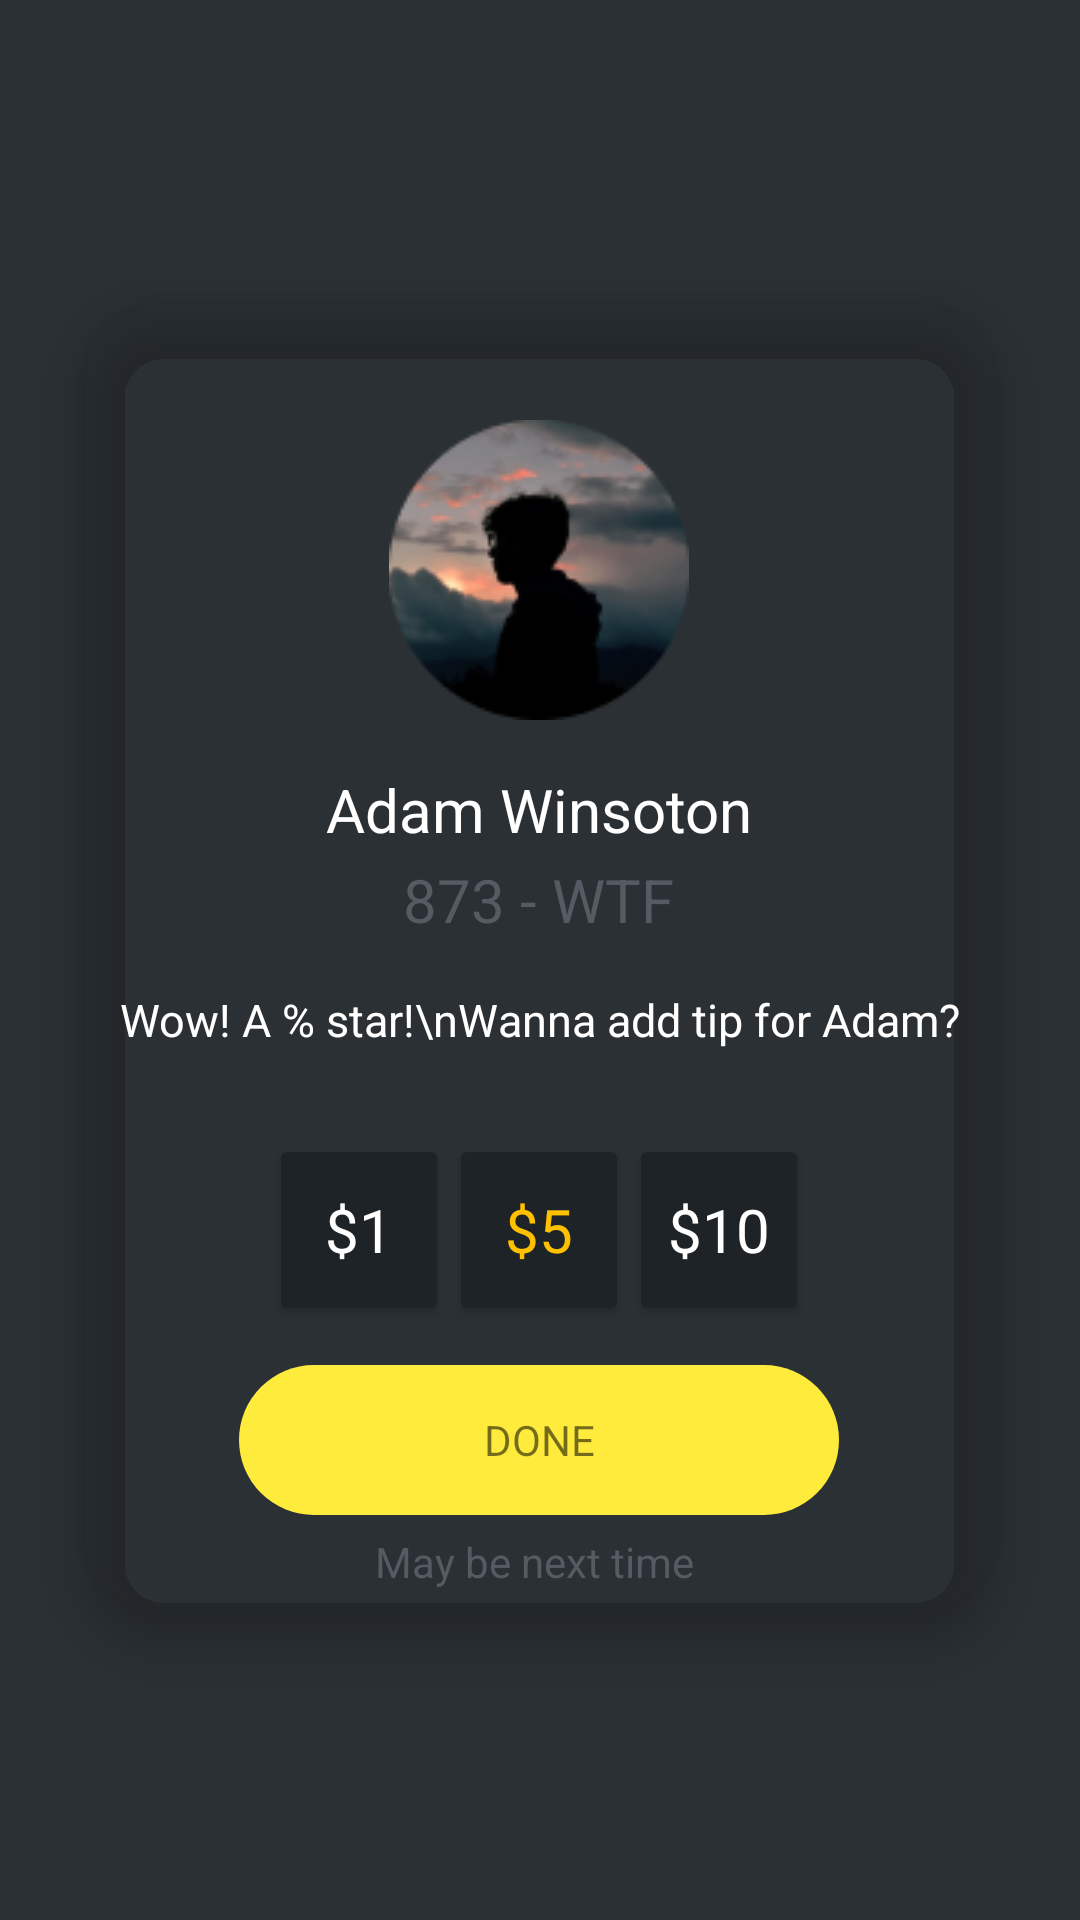

Point at icon controls on the screen. Image size 1080 x 1920, points as (x,y).
user: (539,570)
